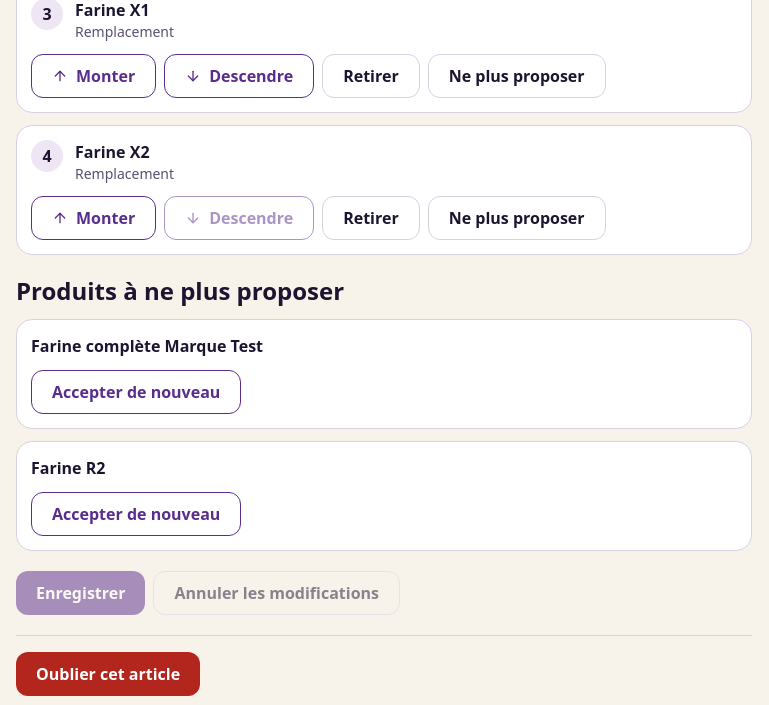
Test: Mes produits : un ingrédient › accepte de nouveau un refusé en troisième, puis bloque à cinq produits
(page scrolled)
Click the button "Accepter de nouveau" below "Farine complète Marque Test".
click(136, 392)  # box x1=31 y1=370 x2=241 y2=414
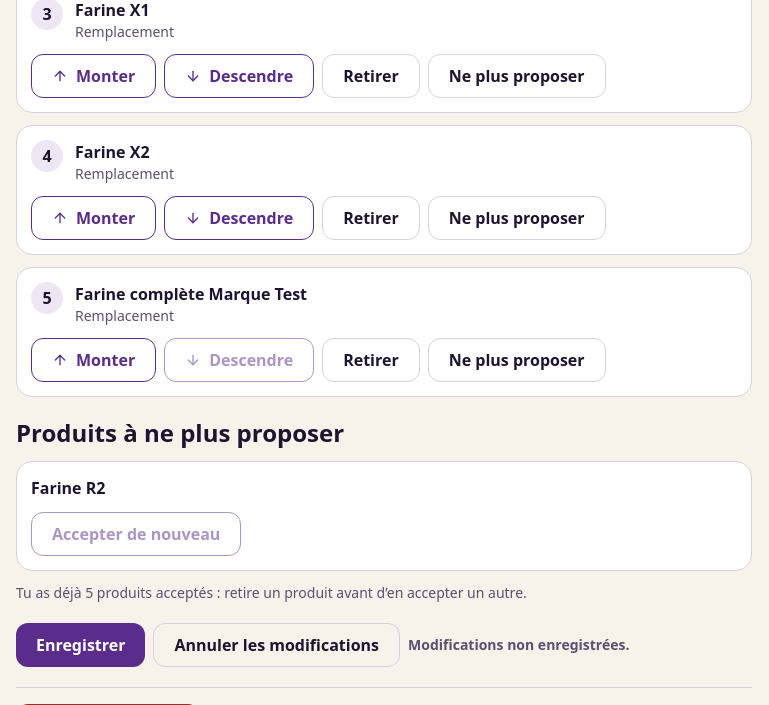
Expected: the text "Tu as déjà 5 produits acceptés" is shown, x1=16 y1=583 x2=527 y2=602
Expected: the button "Accepter de nouveau" is disabled, x1=31 y1=512 x2=241 y2=556
